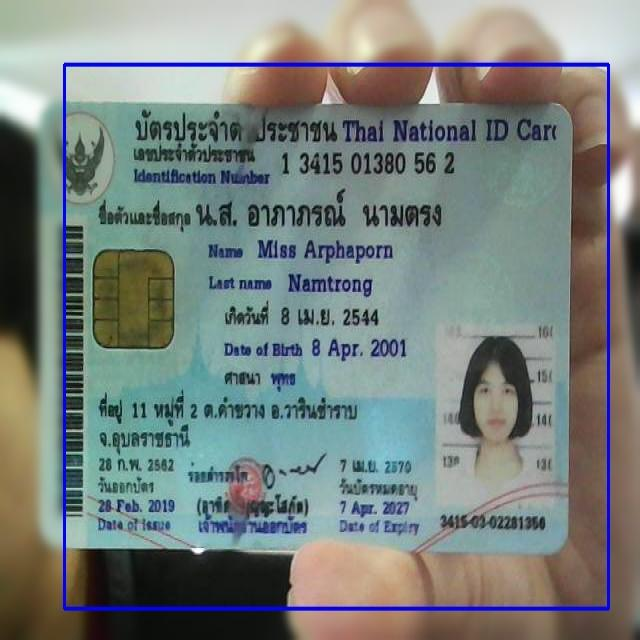Address_th: (90, 393, 378, 460)
Date_of_Birth: (306, 332, 412, 367)
Date_of_Expiry: (333, 494, 418, 519)
Date_of_Issue: (93, 492, 179, 516)
First_Name: (251, 231, 397, 269)
ID_Number: (279, 144, 460, 183)
Image: (437, 321, 551, 509)
Last_Name: (286, 270, 377, 299)
Thai_Name: (194, 185, 448, 237)
